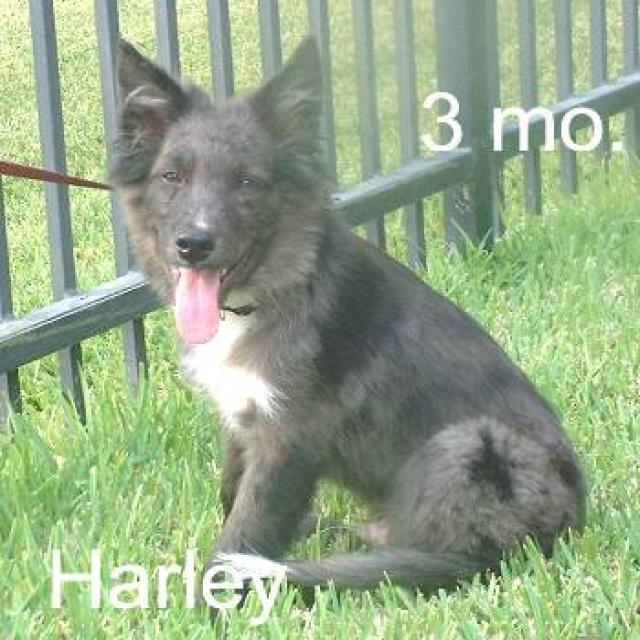dog: (104, 32, 589, 619)
